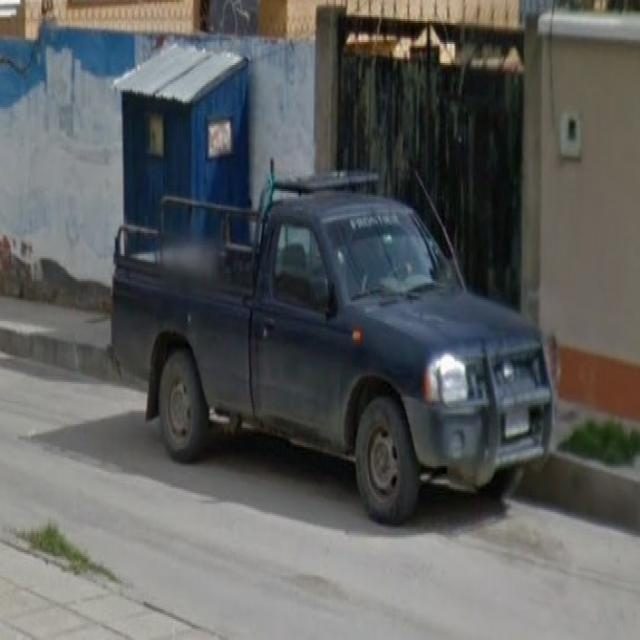Car: (107, 176, 556, 520)
